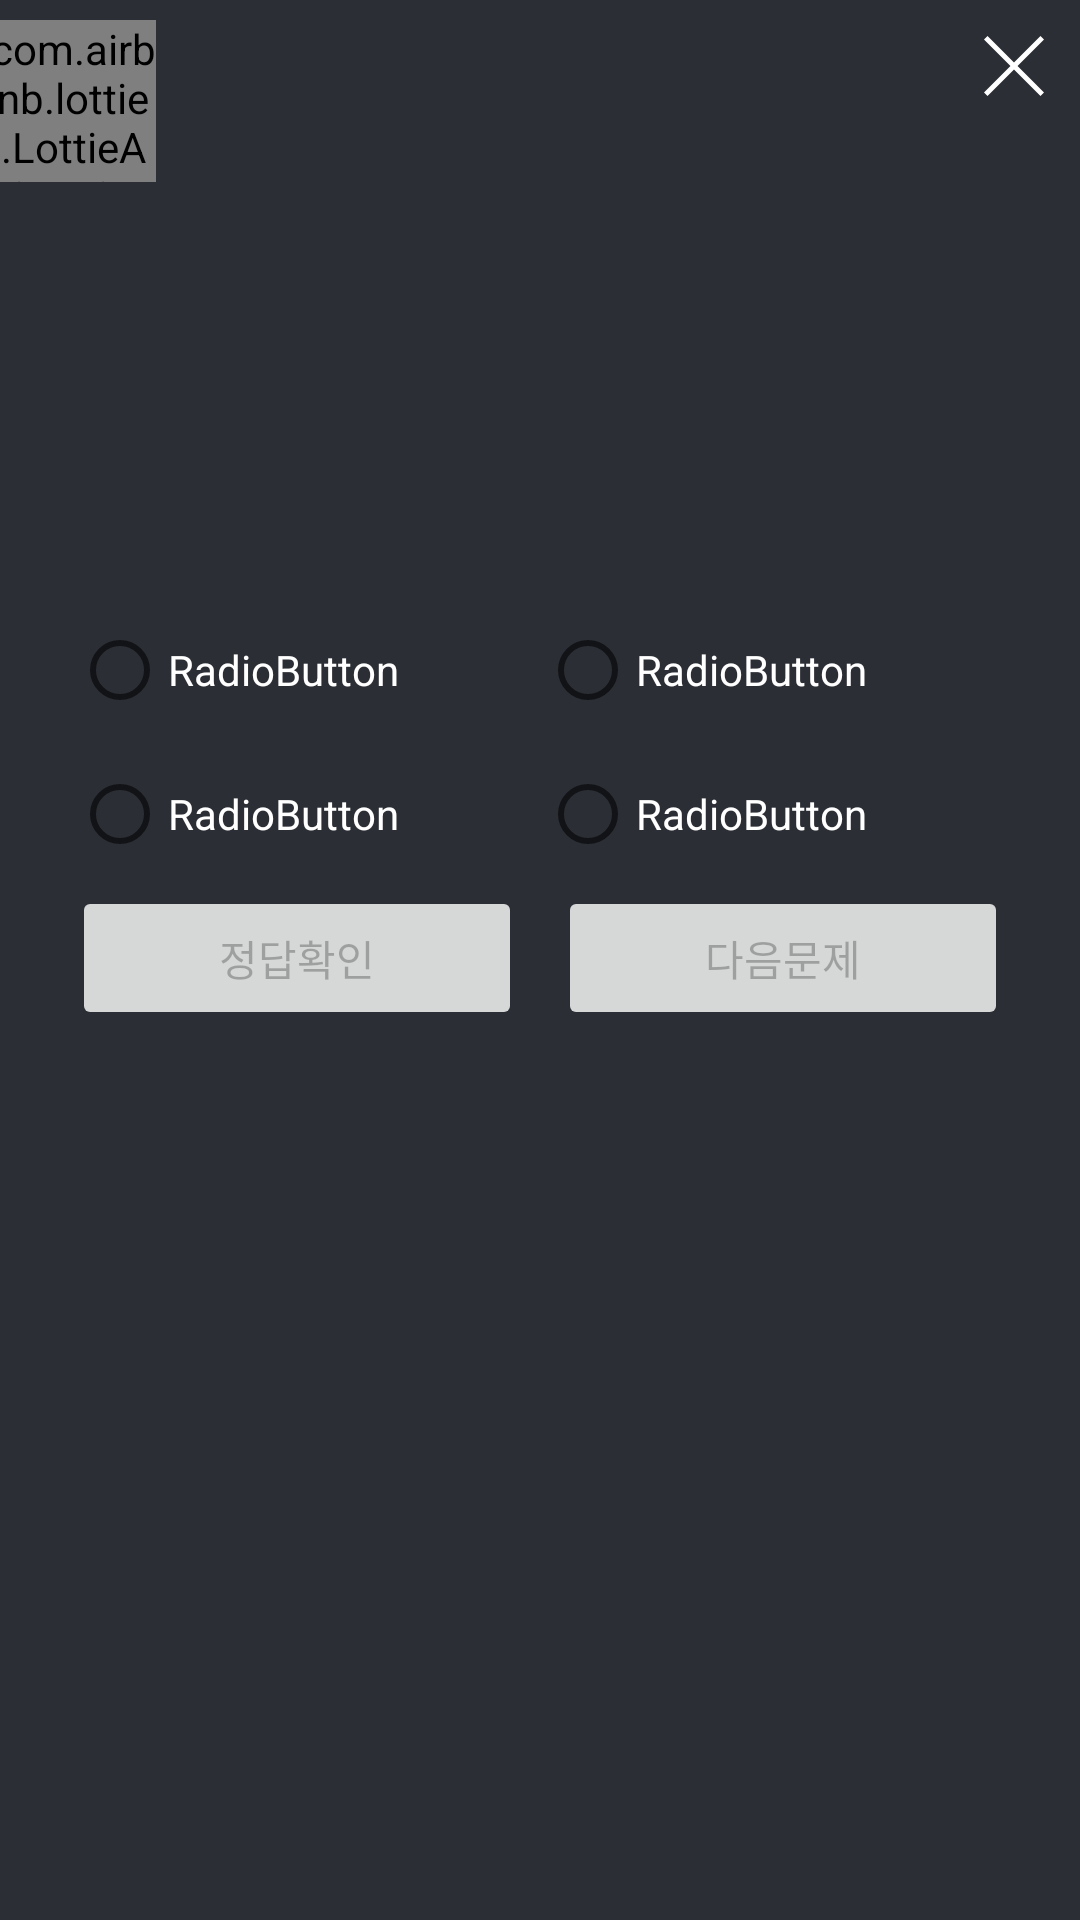

Icon click points for this 1080*1920 phone screenshot, format (x,y):
wrong: (1014,66)
